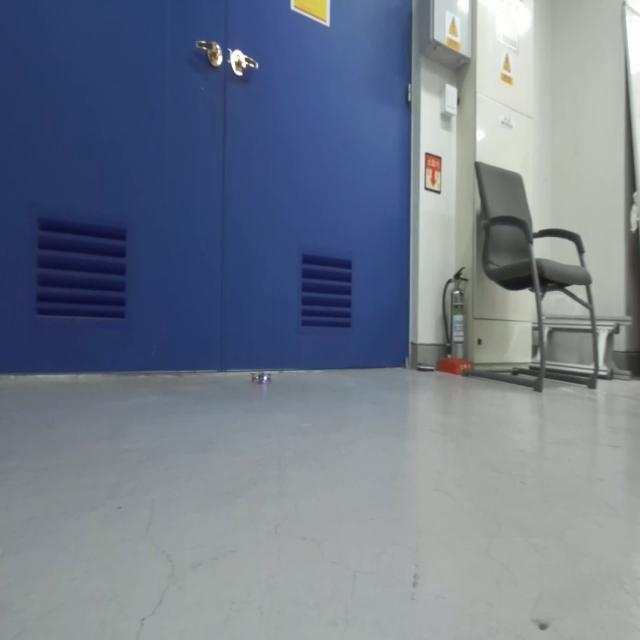crazyflie: (249, 364, 275, 390)
